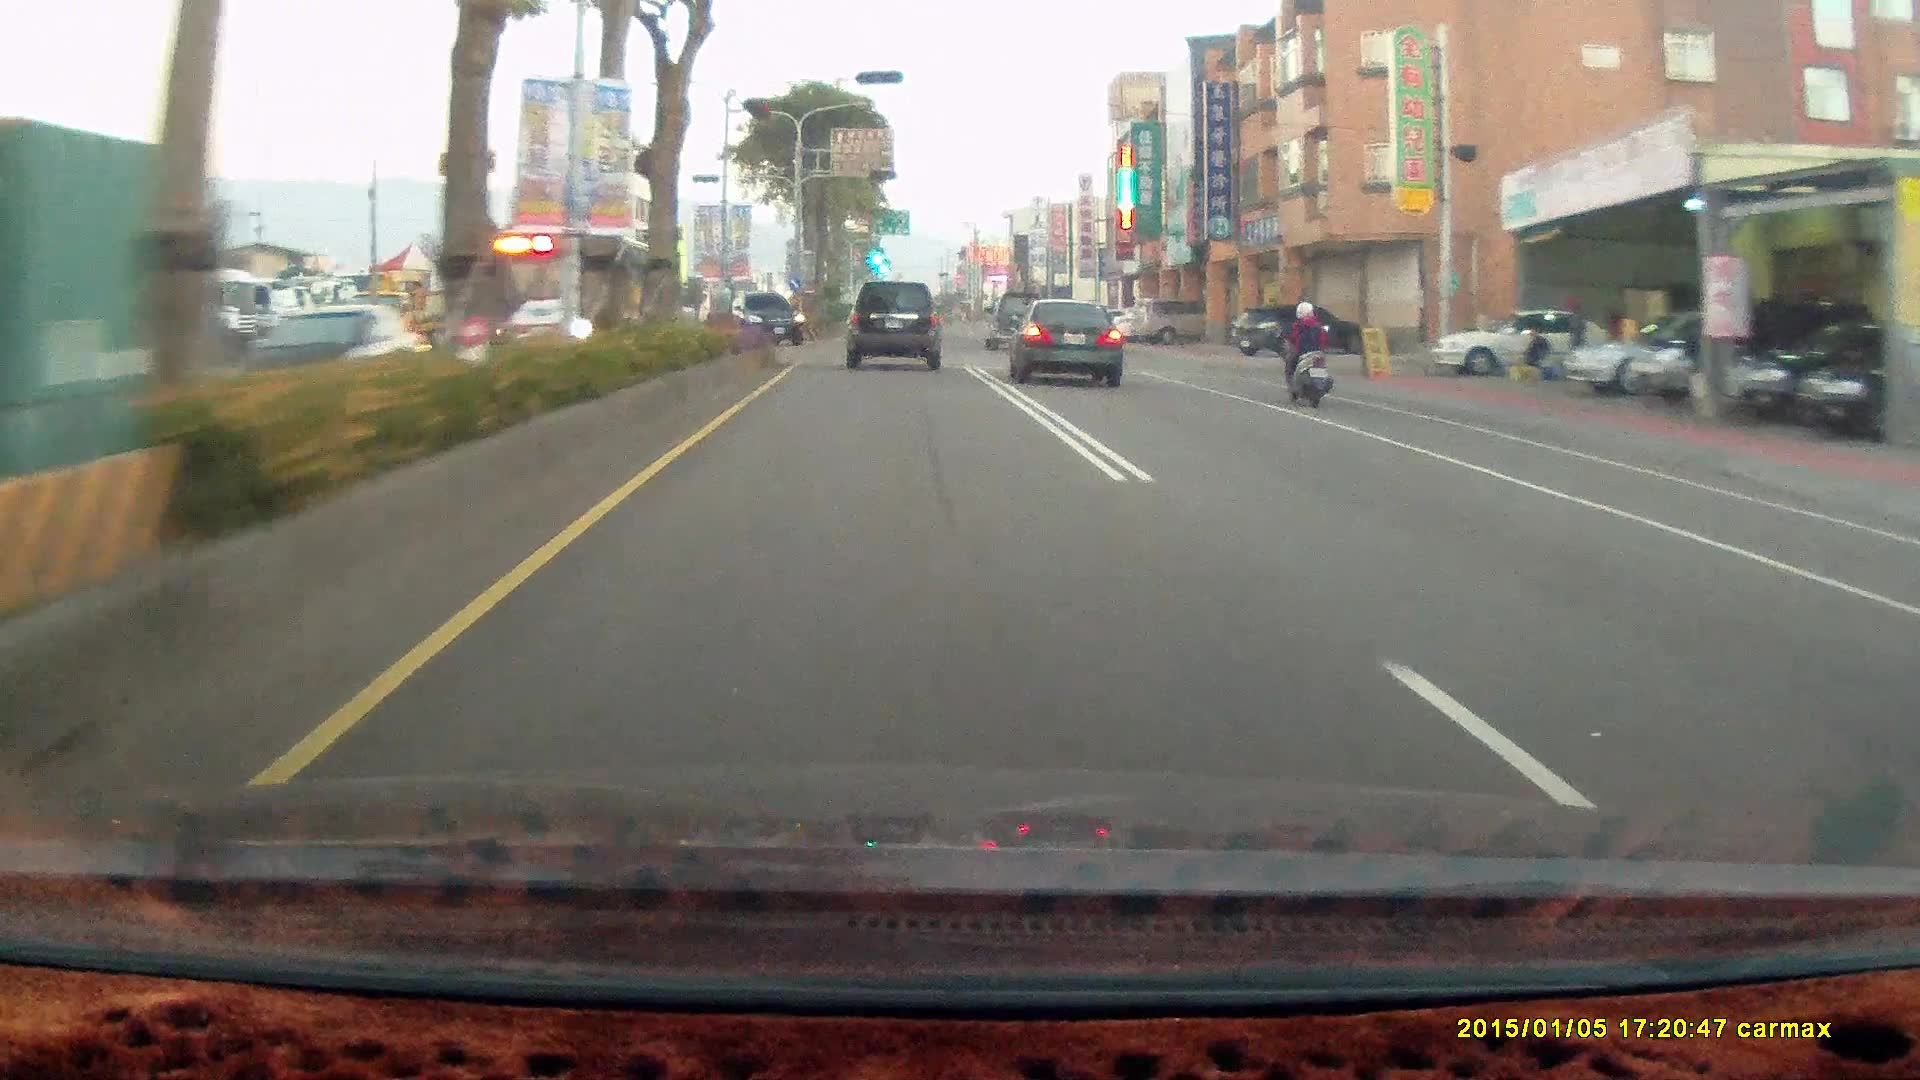pedestrian: (1562, 292, 1586, 371), (1522, 321, 1550, 376)
rider: (1269, 288, 1345, 417), (1275, 293, 1333, 400)
vehicle: (436, 222, 684, 365), (481, 229, 684, 355), (232, 301, 430, 411), (1565, 306, 1797, 394), (1631, 299, 1828, 403), (1729, 316, 1920, 422), (1566, 305, 1790, 394), (1740, 310, 1903, 422), (1419, 307, 1620, 383), (1801, 319, 1920, 446), (1799, 315, 1920, 438), (1429, 306, 1614, 376), (1014, 298, 1133, 394), (1003, 294, 1123, 383), (843, 281, 946, 372), (843, 280, 944, 369), (1230, 304, 1371, 357), (1227, 306, 1362, 359), (1117, 297, 1211, 349), (721, 290, 805, 349), (1128, 295, 1221, 345), (983, 291, 1048, 349)
